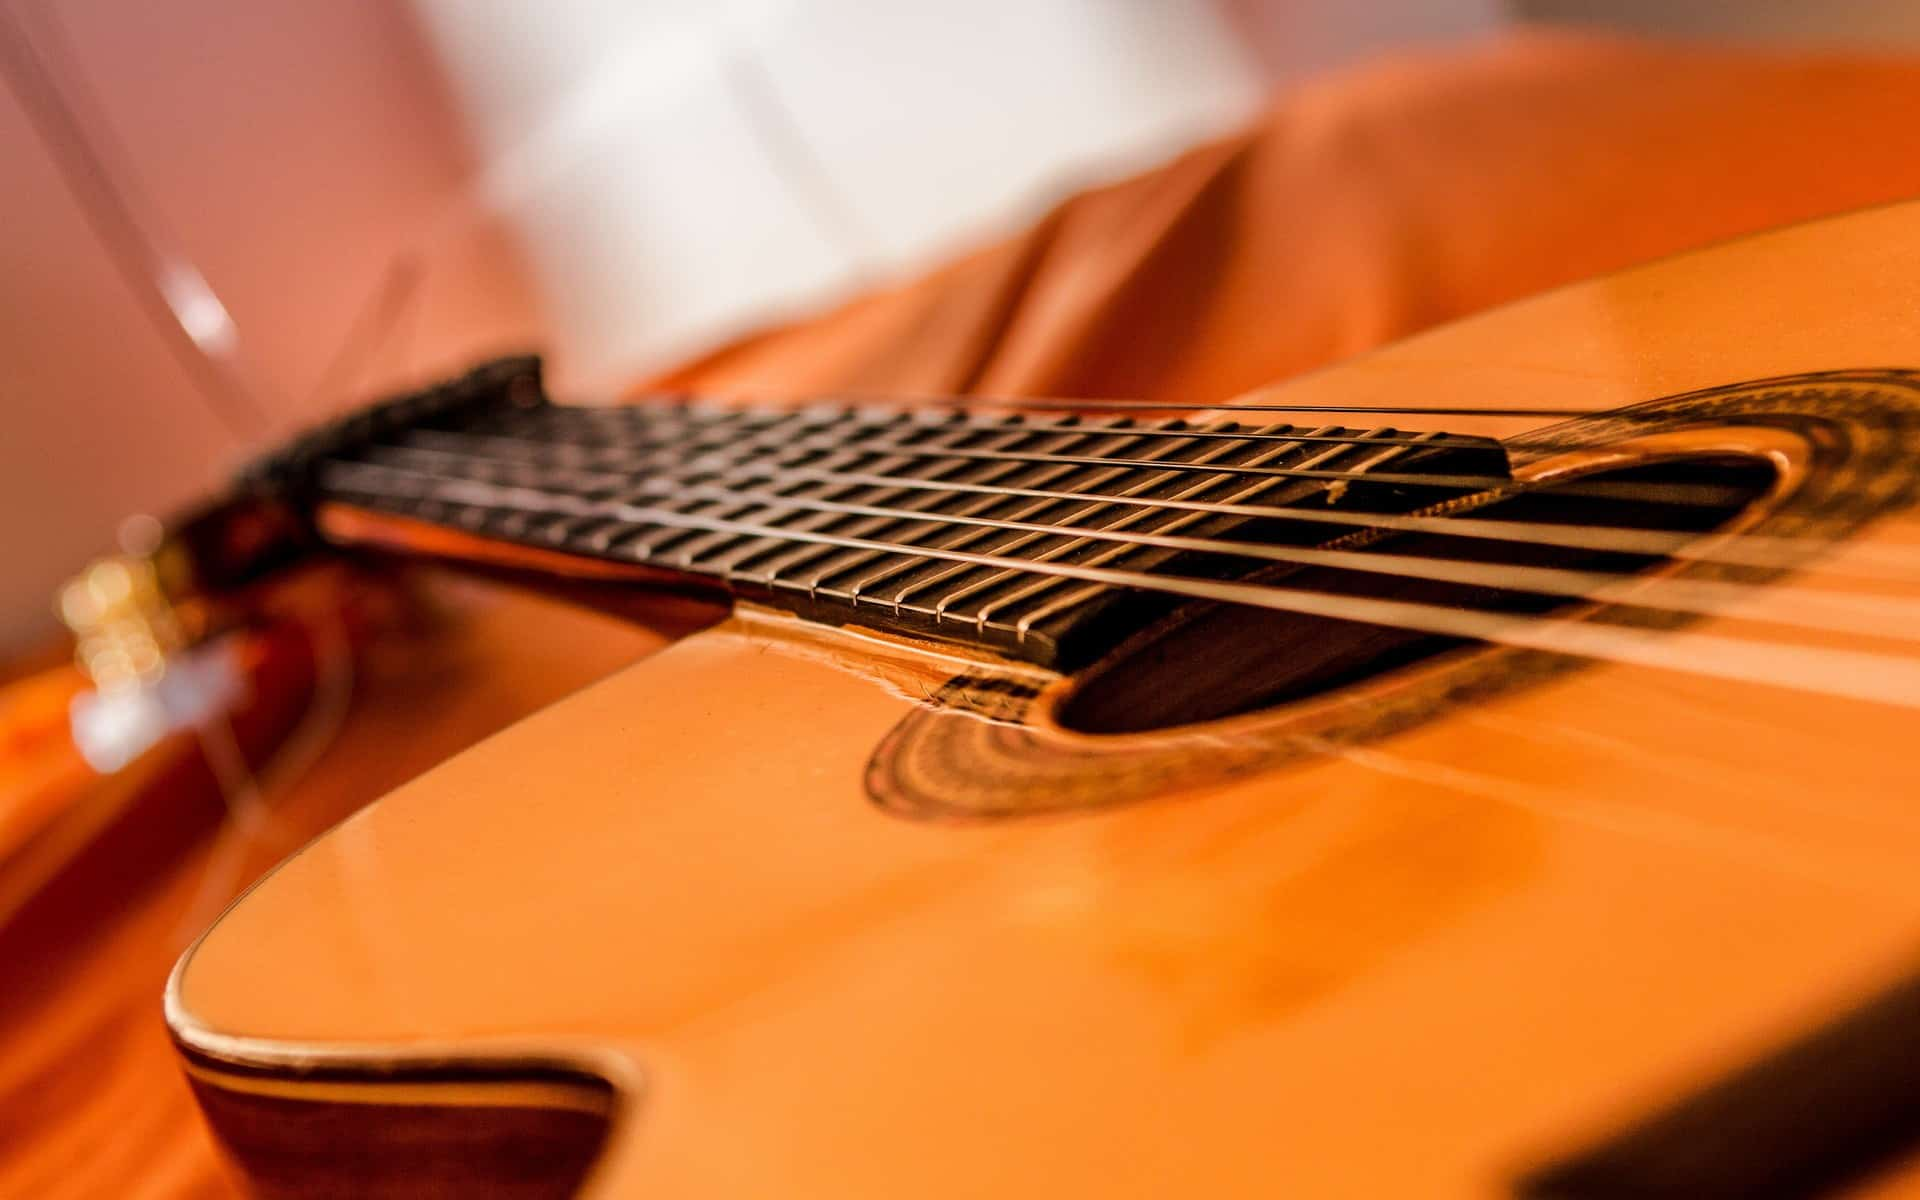guitar: (286, 348, 1919, 762)
